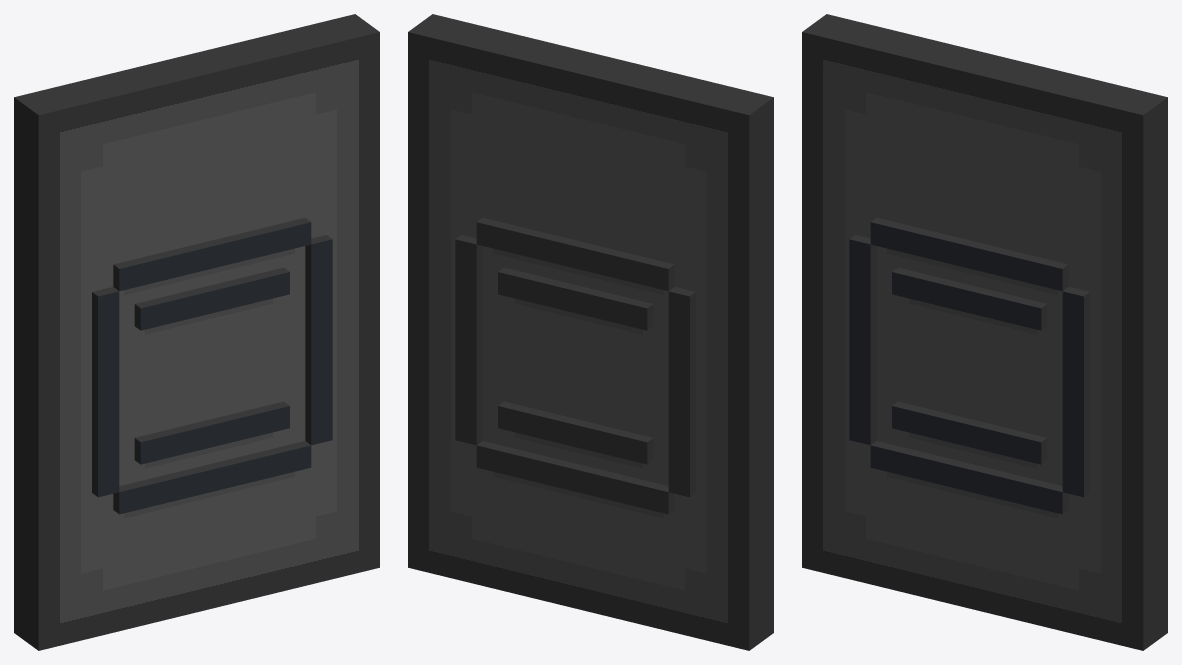
File: crab_door.fbx
3 renders of one model, left to right at view 1: azimuth 30°, elevation 25°; view 2: azimuth 150°, elevation 25°; view 3: azimuth 330°, elevation 25°, orthographic.
Parts seen in each view (by area): view 1: cuboid, cuboid_3, cuboid_2, cuboid_1, cuboid_4, cuboid_5, cuboid_6; view 2: cuboid, cuboid_3, cuboid_2, cuboid_1, cuboid_4, cuboid_5, cuboid_6; view 3: cuboid, cuboid_2, cuboid_3, cuboid_1, cuboid_4, cuboid_5, cuboid_6.
Part boxes in pixels (left/top/right/bottom): cuboid: left=14, top=14, right=379, bottom=650; cuboid_3: left=92, top=287, right=119, bottom=497; cuboid_2: left=305, top=235, right=332, bottom=445; cuboid_1: left=113, top=217, right=311, bottom=291; cuboid_4: left=113, top=441, right=311, bottom=514; cuboid_5: left=134, top=401, right=289, bottom=464; cuboid_6: left=134, top=267, right=289, bottom=330; cuboid: left=408, top=14, right=773, bottom=650; cuboid_3: left=668, top=287, right=695, bottom=497; cuboid_2: left=455, top=235, right=482, bottom=445; cuboid_1: left=476, top=217, right=674, bottom=291; cuboid_4: left=476, top=441, right=674, bottom=514; cuboid_5: left=498, top=401, right=653, bottom=464; cuboid_6: left=498, top=267, right=653, bottom=330; cuboid: left=802, top=14, right=1167, bottom=650; cuboid_2: left=1062, top=287, right=1089, bottom=497; cuboid_3: left=849, top=235, right=876, bottom=445; cuboid_1: left=870, top=217, right=1068, bottom=291; cuboid_4: left=870, top=441, right=1068, bottom=514; cuboid_5: left=892, top=401, right=1047, bottom=464; cuboid_6: left=892, top=267, right=1047, bottom=330.
Bounding box in the file's own units: 100 × 150 × 18.75.
Materials: 1 (1 with a texture image).
